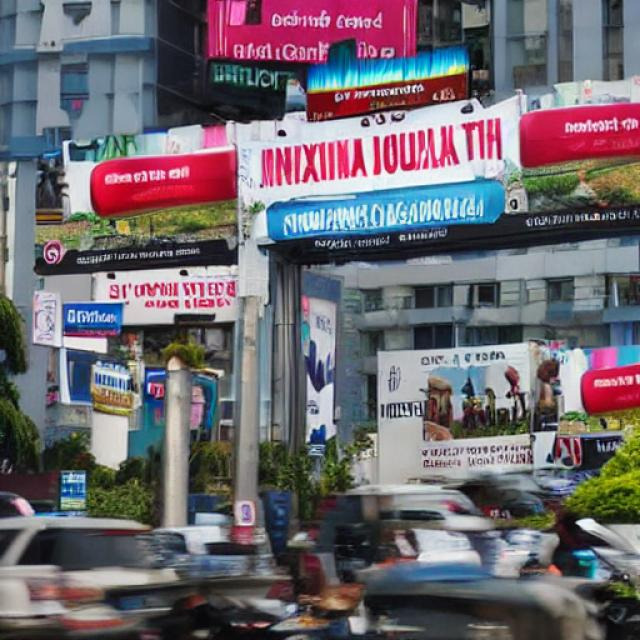Billboard: (33, 101, 640, 280)
